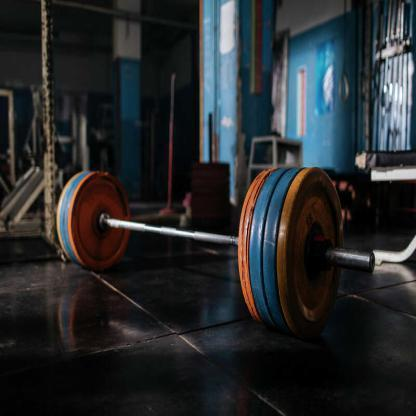barbell: (59, 167, 376, 330)
